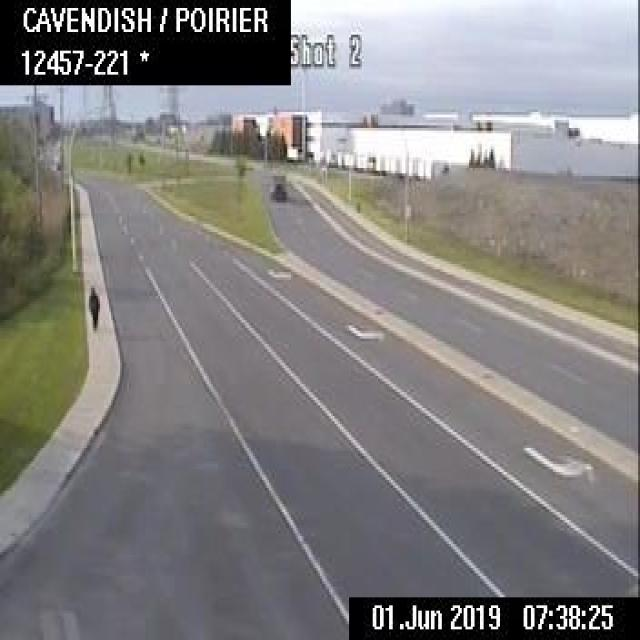pedestrian: (87, 285, 98, 328)
vehicle: (268, 170, 286, 200)
